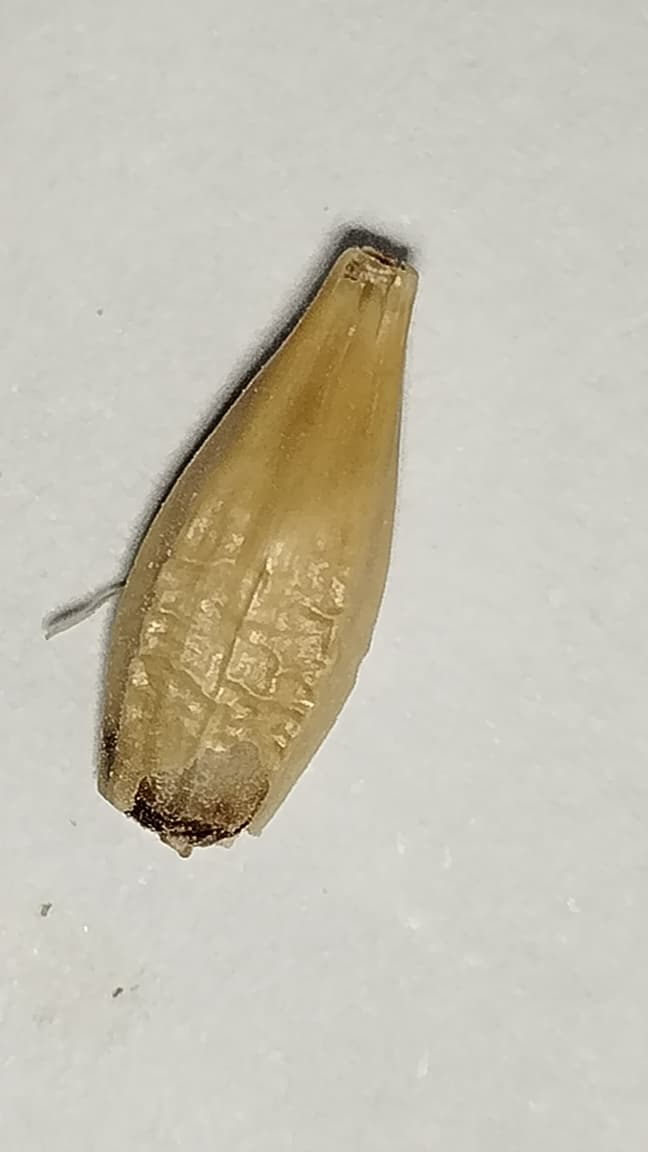healthy-70-60: (99, 248, 416, 850)
staindamage: (96, 717, 268, 856)
